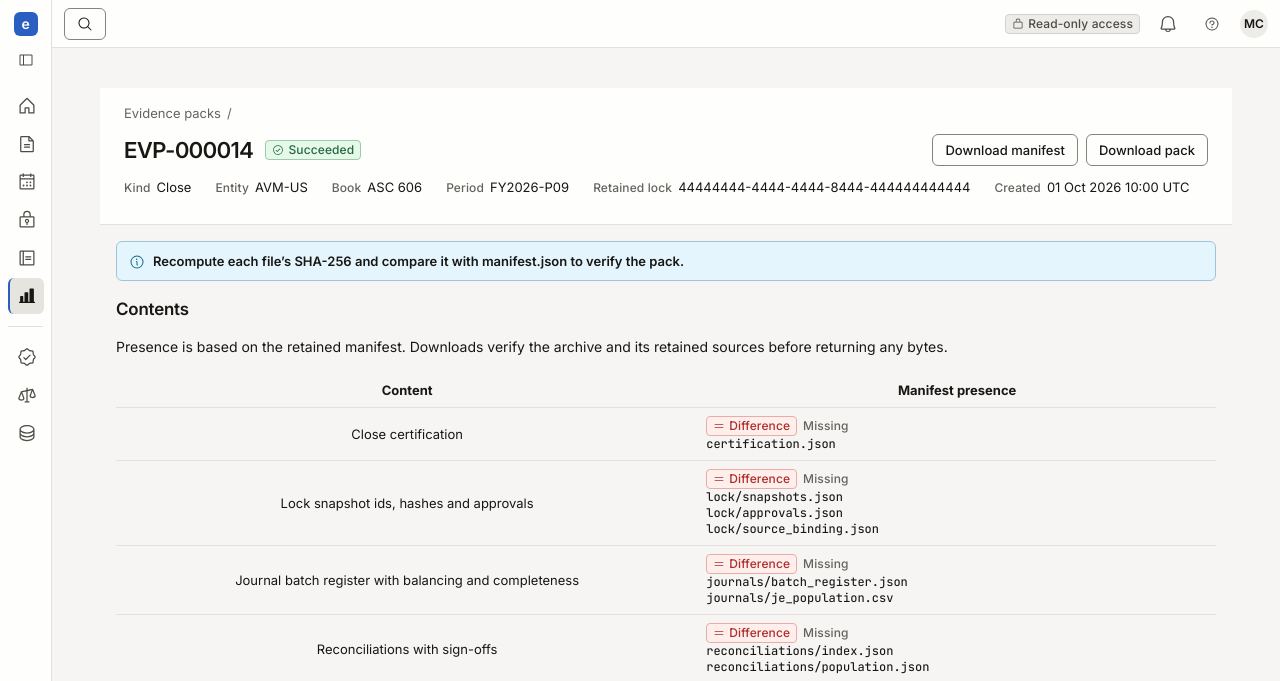
shows a manifest refusal without saving its response
The width and height of the screenshot is (1280, 681).
What coordinates should you click on to do the following:
click the button "Download manifest"
I would click on:
 (1005, 150)
Its box is [932,134,1078,166].
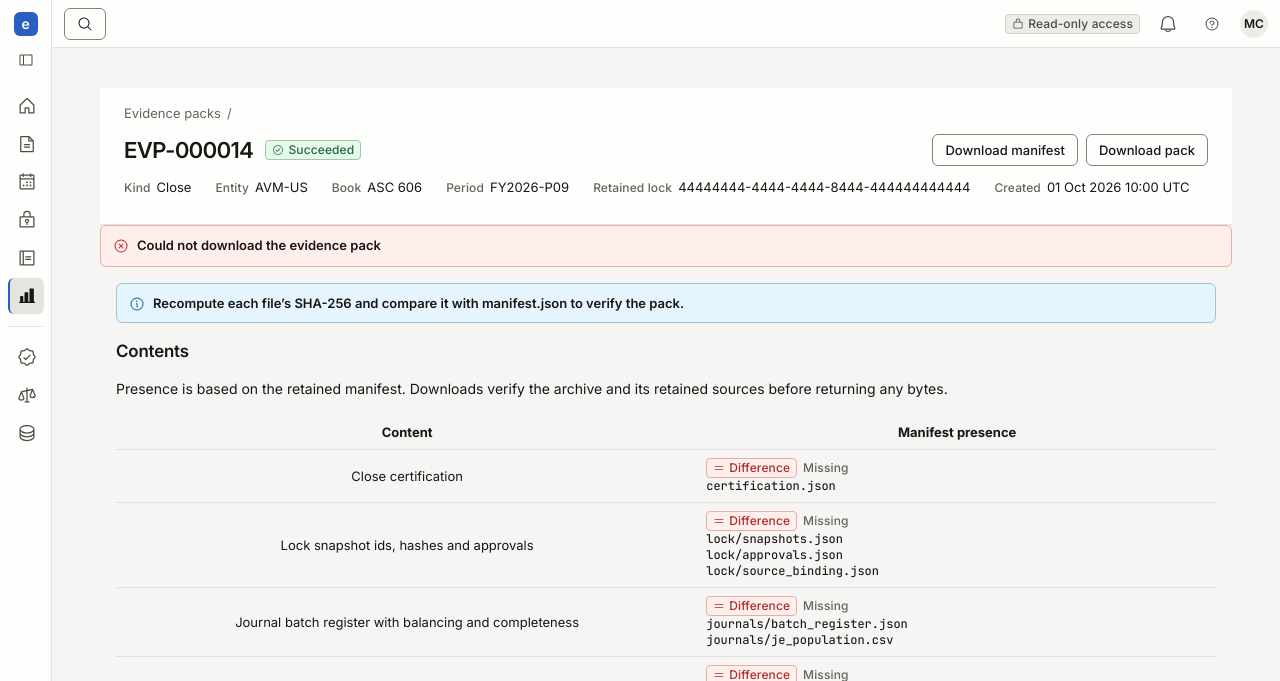
Now the heading "Could not download the evidence pack" is shown, box [137,237,381,253]
